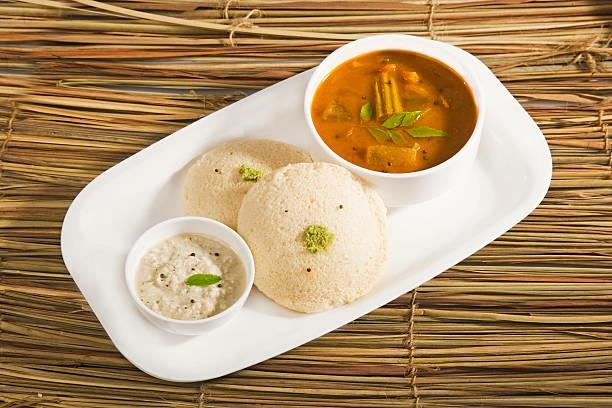CoconutChutney: (136, 231, 246, 322)
Idli: (243, 164, 389, 316), (185, 136, 313, 227)
